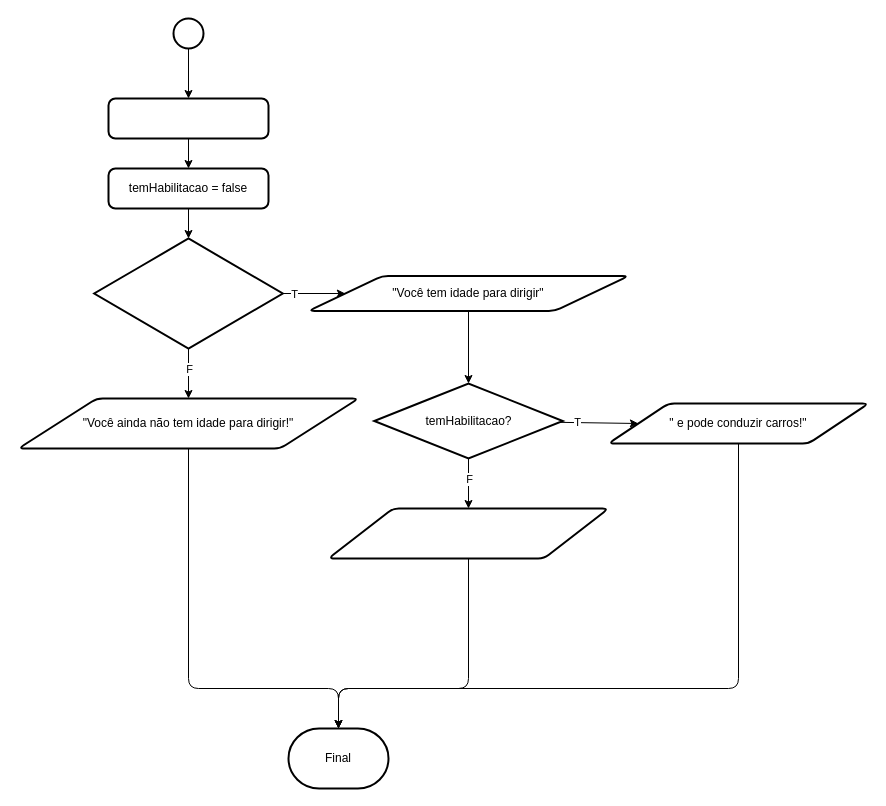
Image size: 886x806. Some labels were removed from this diagram. Each missing label, with the box of its shape:
" mas, precisa fazer autoescola!": (327, 507, 609, 559)
maiorDeIdade = true: (107, 97, 269, 139)
maiorDeIdade?: (93, 237, 283, 349)
